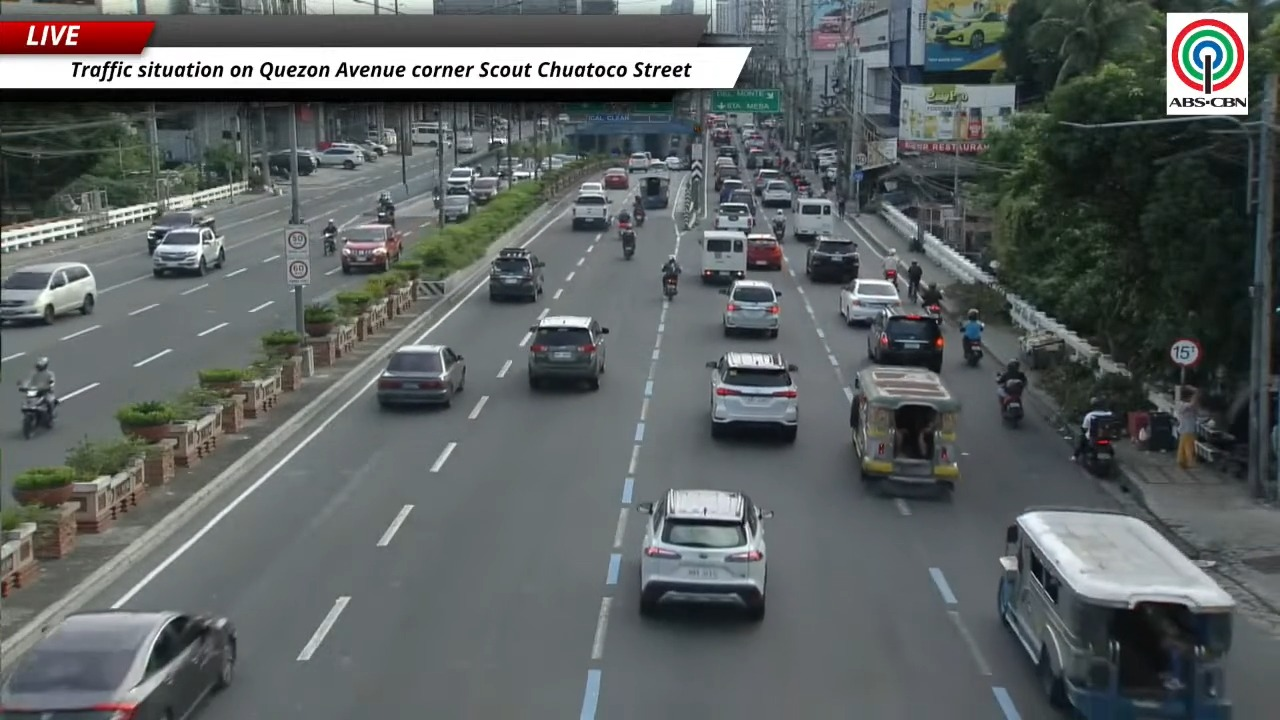car: (0, 610, 236, 719), (637, 489, 772, 621), (707, 352, 798, 442), (0, 262, 97, 323), (528, 316, 608, 389), (376, 344, 464, 407), (867, 307, 944, 372), (720, 279, 780, 337), (146, 208, 215, 254), (341, 223, 402, 273), (488, 247, 544, 301), (932, 12, 1006, 50), (839, 279, 901, 324), (805, 235, 859, 282), (713, 202, 753, 233), (747, 235, 783, 269), (327, 141, 378, 162), (318, 146, 364, 169), (721, 189, 756, 219), (760, 179, 792, 207), (441, 193, 471, 222), (472, 177, 499, 204), (753, 168, 780, 194), (267, 150, 291, 177), (446, 166, 476, 185), (602, 168, 629, 189), (720, 178, 744, 201), (444, 179, 470, 196), (627, 152, 649, 172), (717, 145, 738, 164), (746, 147, 764, 169), (456, 136, 476, 153), (578, 182, 604, 194), (665, 155, 684, 170), (714, 156, 735, 168), (649, 158, 666, 171)
motorcycle: (1077, 424, 1114, 478), (19, 385, 53, 438), (1000, 379, 1023, 427), (963, 339, 983, 366), (622, 235, 636, 260), (663, 277, 678, 300), (617, 220, 634, 240), (926, 303, 942, 324), (323, 232, 335, 255), (377, 209, 393, 226), (907, 279, 918, 301), (772, 222, 784, 242), (633, 208, 645, 227), (884, 268, 897, 285)
truck: (152, 227, 225, 276), (146, 208, 215, 253), (571, 193, 609, 229), (639, 173, 669, 208)
